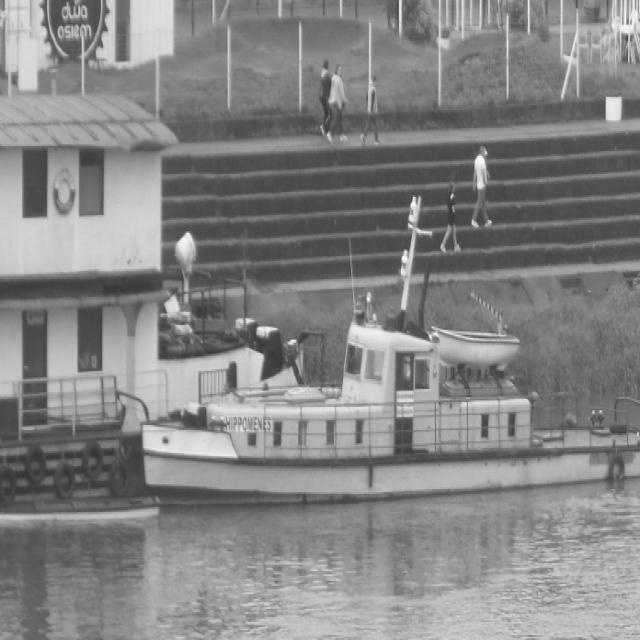tugboat: (138, 186, 640, 528)
